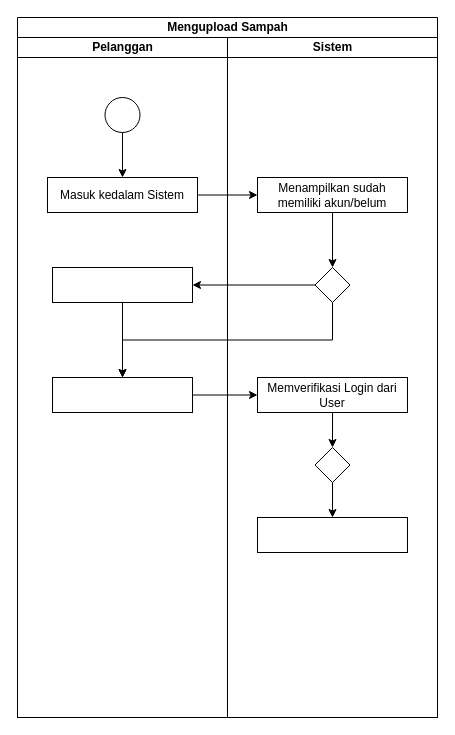
This 455x735 diagram has some shape labels left out. The shapes that lost their labels are listed below. From the top down, each one's centre as x and y in pixels, then its label:
[122,284]: Registrasi kedalam sistem
[122,394]: Login kedalam sistem
[332,534]: Menampilkan Homepage
